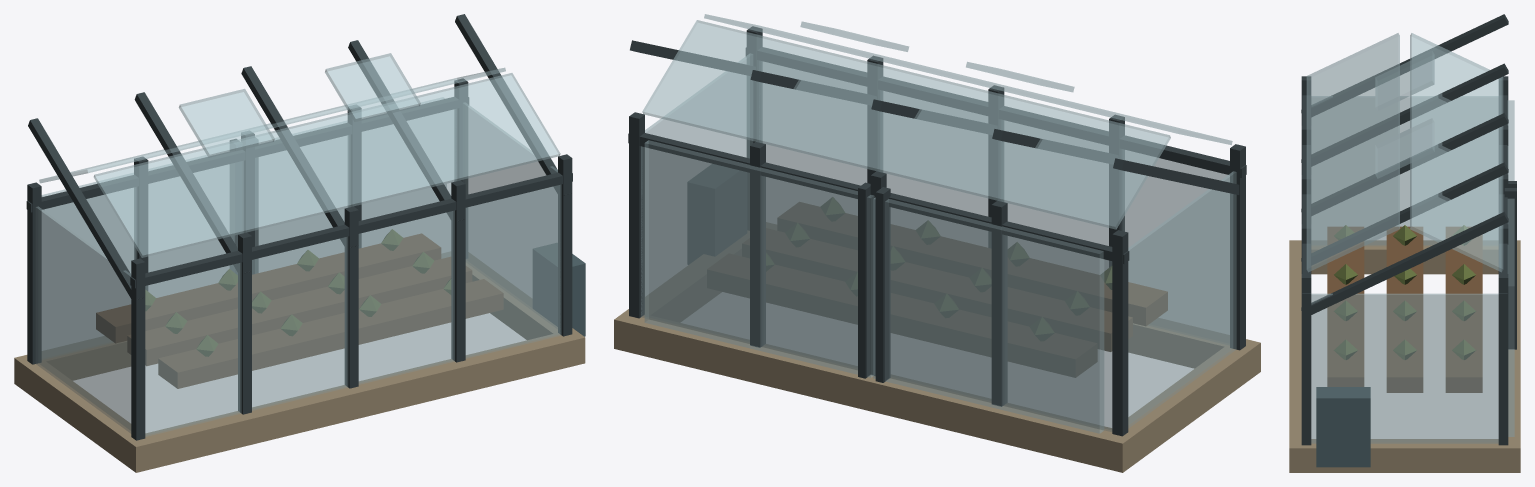
File: Glasshouse.glb
The picture shows the model from 3 angles, left to right: view 1: azimuth 30°, elevation 25°; view 2: azimuth 150°, elevation 25°; view 3: azimuth 270°, elevation 25°; orthographic projection. The views are drawn at different scales.
Visible parts, largest first — view 1: hand-pump-static-glasshouse-pale-blue-glass-mat, hand-pump-static-glasshouse-charcoal-frame-mat, hand-pump-static-glasshouse-stone-curb-mat, hand-pump-static-glasshouse-bench-mat, hand-pump-static-glasshouse-interior-plant-mat, hand-pump-static-glasshouse-service-mat; view 2: hand-pump-static-glasshouse-pale-blue-glass-mat, hand-pump-static-glasshouse-charcoal-frame-mat, hand-pump-static-glasshouse-stone-curb-mat, hand-pump-static-glasshouse-bench-mat, hand-pump-static-glasshouse-service-mat, hand-pump-static-glasshouse-interior-plant-mat; view 3: hand-pump-static-glasshouse-pale-blue-glass-mat, hand-pump-static-glasshouse-charcoal-frame-mat, hand-pump-static-glasshouse-bench-mat, hand-pump-static-glasshouse-stone-curb-mat, hand-pump-static-glasshouse-service-mat, hand-pump-static-glasshouse-interior-plant-mat.
Part boxes in pixels (x1,y1,x2,y2): hand-pump-static-glasshouse-pale-blue-glass-mat: [36, 53, 561, 436]; hand-pump-static-glasshouse-charcoal-frame-mat: [26, 14, 572, 440]; hand-pump-static-glasshouse-stone-curb-mat: [14, 252, 585, 472]; hand-pump-static-glasshouse-bench-mat: [96, 233, 503, 388]; hand-pump-static-glasshouse-interior-plant-mat: [145, 229, 450, 356]; hand-pump-static-glasshouse-service-mat: [533, 243, 585, 336]; hand-pump-static-glasshouse-pale-blue-glass-mat: [641, 14, 1236, 433]; hand-pump-static-glasshouse-charcoal-frame-mat: [628, 26, 1246, 436]; hand-pump-static-glasshouse-stone-curb-mat: [614, 222, 1260, 472]; hand-pump-static-glasshouse-bench-mat: [707, 202, 1167, 377]; hand-pump-static-glasshouse-service-mat: [688, 164, 746, 264]; hand-pump-static-glasshouse-interior-plant-mat: [766, 198, 1111, 340]; hand-pump-static-glasshouse-pale-blue-glass-mat: [1306, 33, 1514, 443]; hand-pump-static-glasshouse-charcoal-frame-mat: [1301, 14, 1516, 445]; hand-pump-static-glasshouse-bench-mat: [1327, 226, 1482, 392]; hand-pump-static-glasshouse-stone-curb-mat: [1289, 240, 1520, 472]; hand-pump-static-glasshouse-service-mat: [1316, 387, 1370, 467]; hand-pump-static-glasshouse-interior-plant-mat: [1334, 225, 1475, 359].
Bounding box in the file's own units: 4.13 × 2.42 × 1.88.
